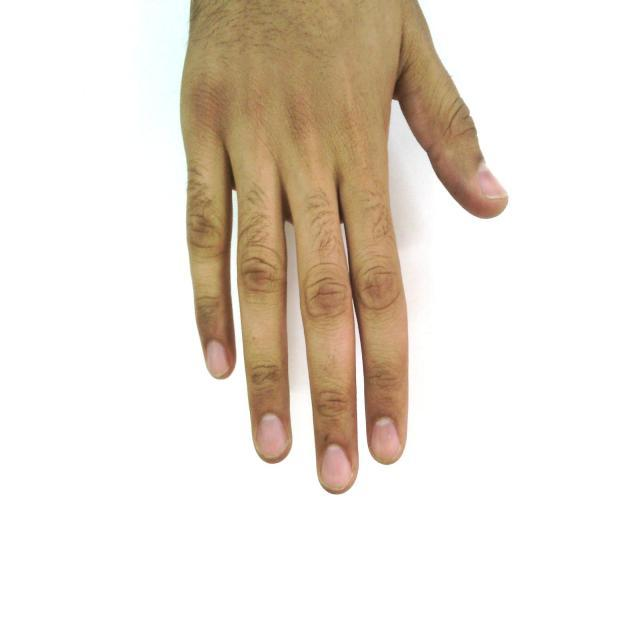Fingernail: (321, 446, 351, 490), (258, 415, 286, 458), (373, 419, 400, 462), (478, 165, 506, 199), (207, 341, 229, 376)
